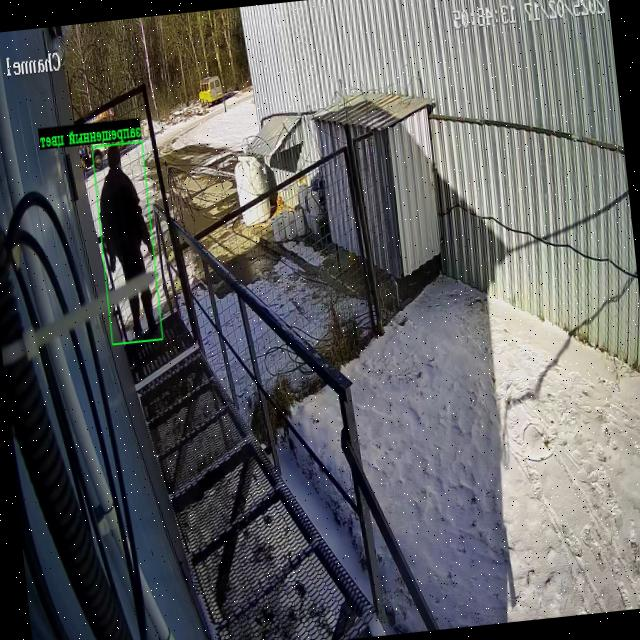Person: (100, 146, 152, 280), (140, 288, 160, 336), (129, 295, 142, 338)
